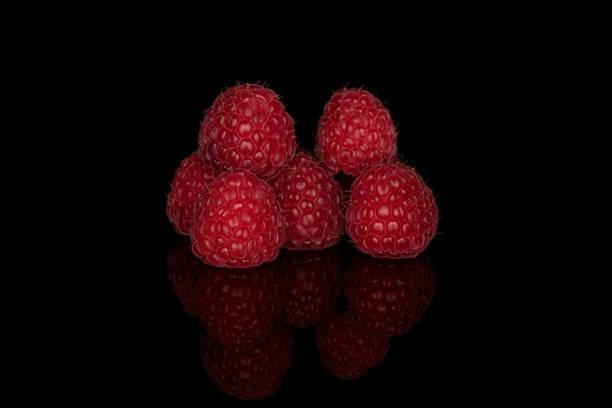strawberry: (197, 82, 296, 178), (189, 170, 285, 268), (344, 162, 439, 259), (267, 153, 345, 250), (315, 86, 397, 176), (165, 151, 218, 235)
sweetcorn: (165, 81, 439, 268)
